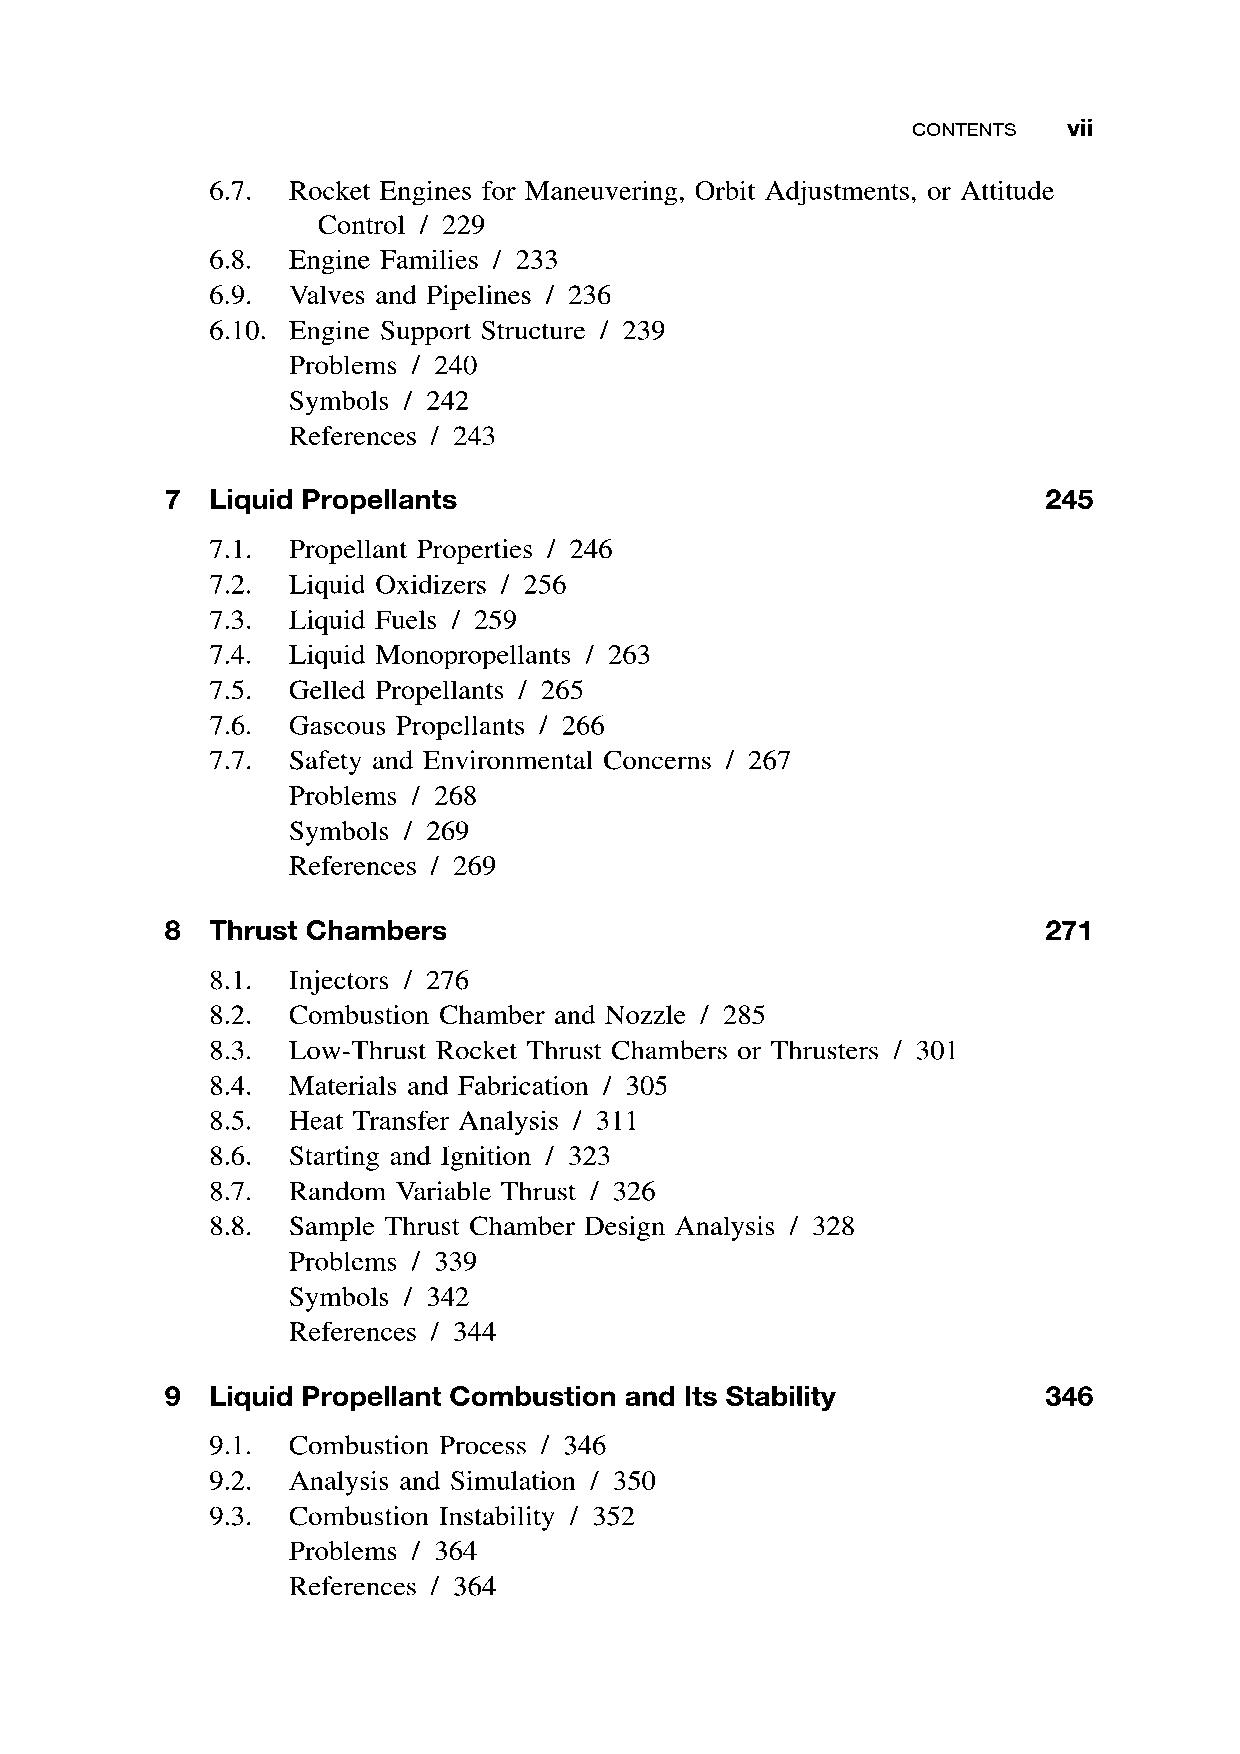TOC_chapter: (156, 1376, 841, 1424), (201, 170, 1057, 207), (199, 1033, 884, 1066), (150, 900, 454, 953), (208, 743, 718, 774), (195, 1215, 781, 1241), (201, 998, 695, 1028), (153, 476, 466, 522), (199, 1463, 578, 1499), (203, 311, 586, 345), (201, 1072, 585, 1104), (203, 1502, 557, 1537), (195, 1429, 527, 1461), (203, 280, 539, 310), (199, 1177, 581, 1202), (201, 641, 576, 667), (196, 1143, 531, 1170), (205, 711, 525, 739), (203, 246, 482, 275), (203, 1108, 564, 1131), (201, 679, 507, 706), (203, 573, 493, 600), (199, 537, 533, 560), (205, 607, 452, 635), (196, 965, 391, 997), (289, 1321, 425, 1355), (274, 1539, 404, 1576), (276, 782, 399, 816), (276, 1280, 397, 1314), (290, 1576, 421, 1604), (283, 852, 420, 879), (279, 1248, 403, 1278), (283, 381, 392, 413), (283, 819, 392, 845), (289, 425, 413, 447), (315, 212, 404, 242), (276, 354, 397, 374)
TOC_pagenumber: (1037, 1376, 1095, 1414), (1036, 907, 1096, 943), (1040, 482, 1104, 515), (533, 672, 592, 706), (510, 244, 568, 278), (565, 531, 619, 566), (621, 1070, 672, 1104), (427, 349, 480, 381), (446, 423, 503, 452), (517, 569, 574, 599), (607, 1465, 667, 1494), (450, 845, 498, 880), (585, 1504, 644, 1533), (913, 1031, 962, 1063), (448, 1319, 505, 1347), (556, 711, 615, 738), (425, 1248, 484, 1275), (560, 1427, 611, 1457), (468, 607, 523, 635), (436, 212, 497, 238), (721, 997, 765, 1031), (586, 1108, 644, 1134), (743, 745, 793, 774), (613, 317, 670, 342), (603, 640, 651, 670), (455, 1573, 503, 1602), (425, 815, 476, 841), (423, 1286, 471, 1314), (565, 1143, 619, 1168), (809, 1209, 858, 1236), (432, 1537, 476, 1565), (433, 782, 479, 809), (565, 283, 621, 305), (420, 391, 472, 413), (608, 1180, 660, 1202), (420, 968, 468, 992)
chapter: (909, 115, 1021, 145)
